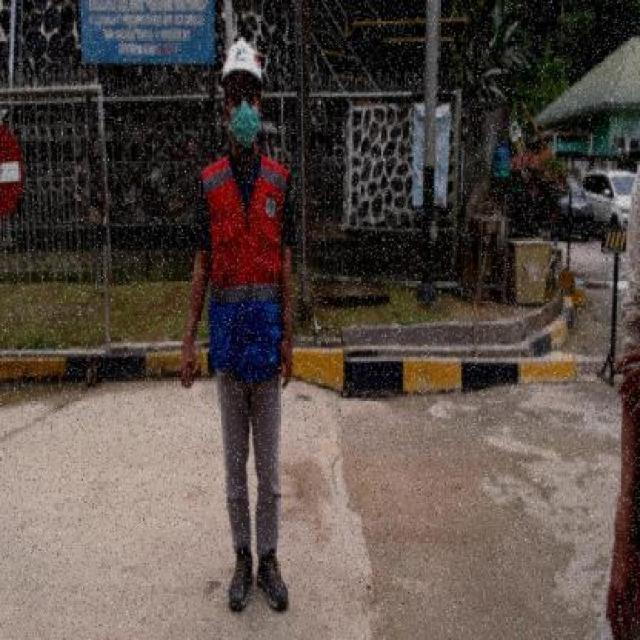Boots: (221, 540, 257, 615), (257, 548, 294, 609)
Helmet: (216, 33, 270, 92)
Mask: (224, 104, 262, 148)
